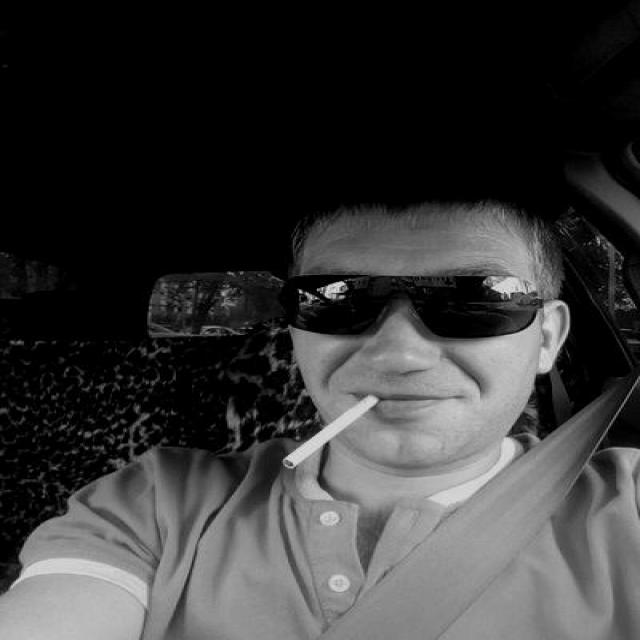Seatbelt: (420, 372, 633, 640)
